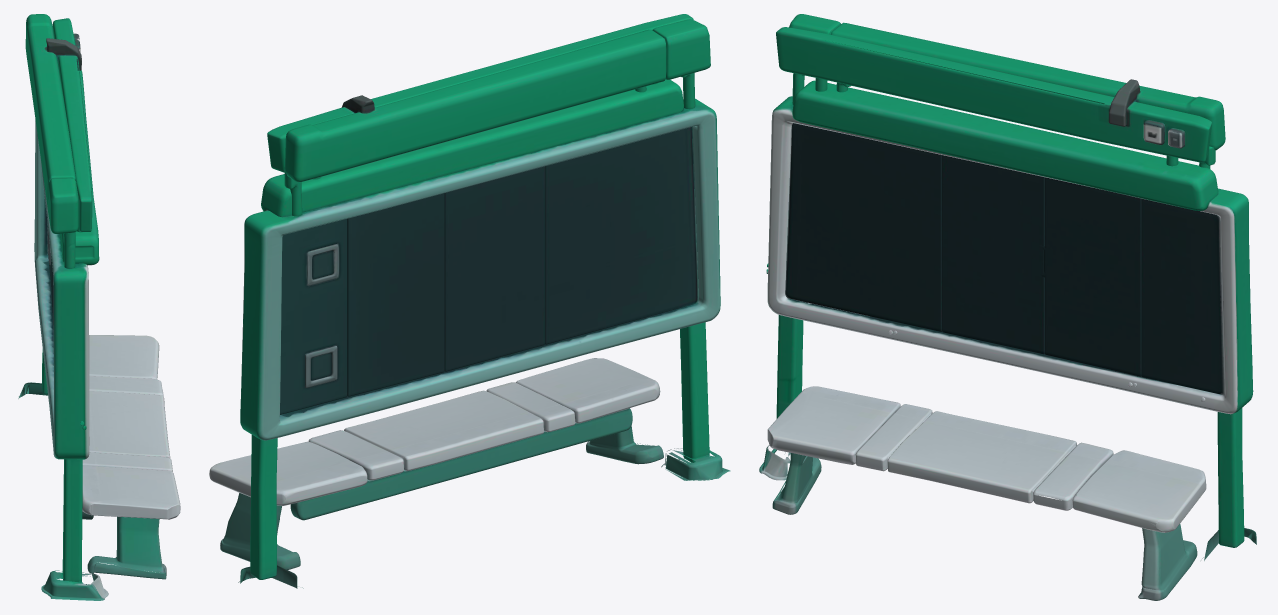
Rendered from toonstudio_subway_bench.glb.
3 renders of one model, left to right at view 1: azimuth 30°, elevation 25°; view 2: azimuth 150°, elevation 25°; view 3: azimuth 270°, elevation 25°, orthographic. The views are drawn at different scales.
Visible parts, largest first — view 1: tripo_1ea5e2b1_1e9e_44db_8ac2_d21ba3faf1ae; view 2: tripo_1ea5e2b1_1e9e_44db_8ac2_d21ba3faf1ae; view 3: tripo_1ea5e2b1_1e9e_44db_8ac2_d21ba3faf1ae.
Boxes of the visible parts, left/top/right/bottom form: tripo_1ea5e2b1_1e9e_44db_8ac2_d21ba3faf1ae: left=18, top=14, right=180, bottom=600; tripo_1ea5e2b1_1e9e_44db_8ac2_d21ba3faf1ae: left=209, top=14, right=730, bottom=588; tripo_1ea5e2b1_1e9e_44db_8ac2_d21ba3faf1ae: left=759, top=14, right=1256, bottom=600.
Size of the model in its own units: 1.77 by 2.5 by 2.5.
Materials: 1 (1 with a texture image).
